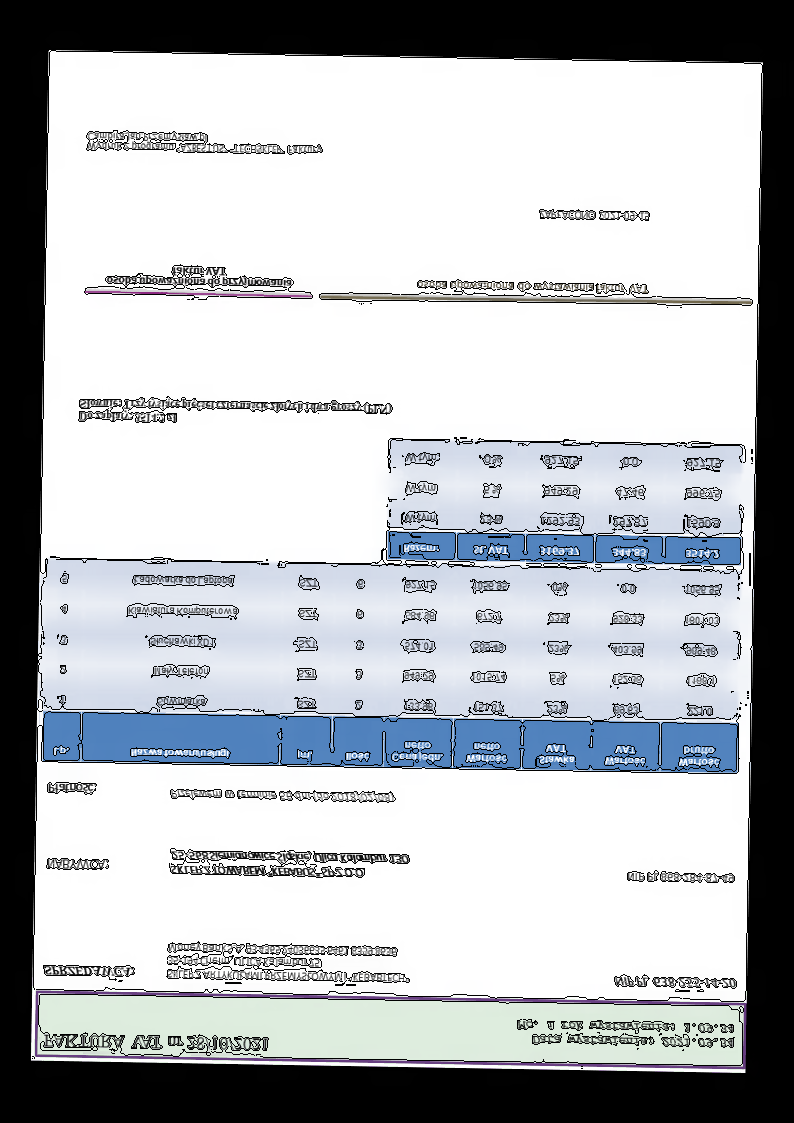Table: (41, 557, 743, 775), (385, 438, 745, 567)
TextBox: (164, 940, 412, 985), (76, 395, 393, 429), (167, 848, 410, 880), (514, 1017, 736, 1050), (85, 129, 324, 157), (104, 263, 295, 292), (41, 1031, 271, 1054), (169, 786, 395, 806), (414, 278, 649, 297), (612, 973, 737, 991), (536, 208, 650, 223), (625, 870, 735, 885), (41, 964, 136, 979), (44, 856, 109, 872), (45, 781, 99, 796)
